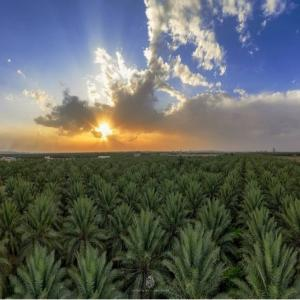palm tree: (0, 155, 300, 299)
